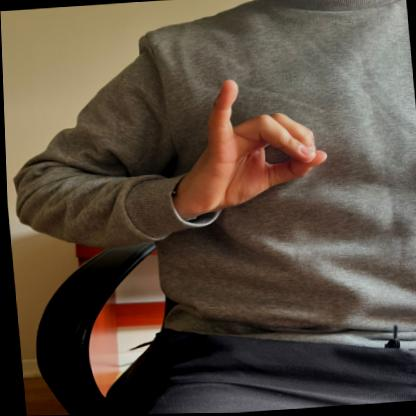D: (176, 69, 334, 211)
